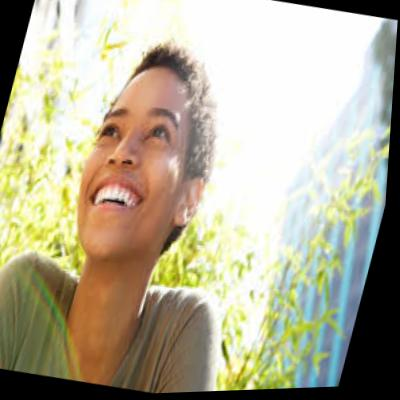happy: (59, 42, 224, 276)
